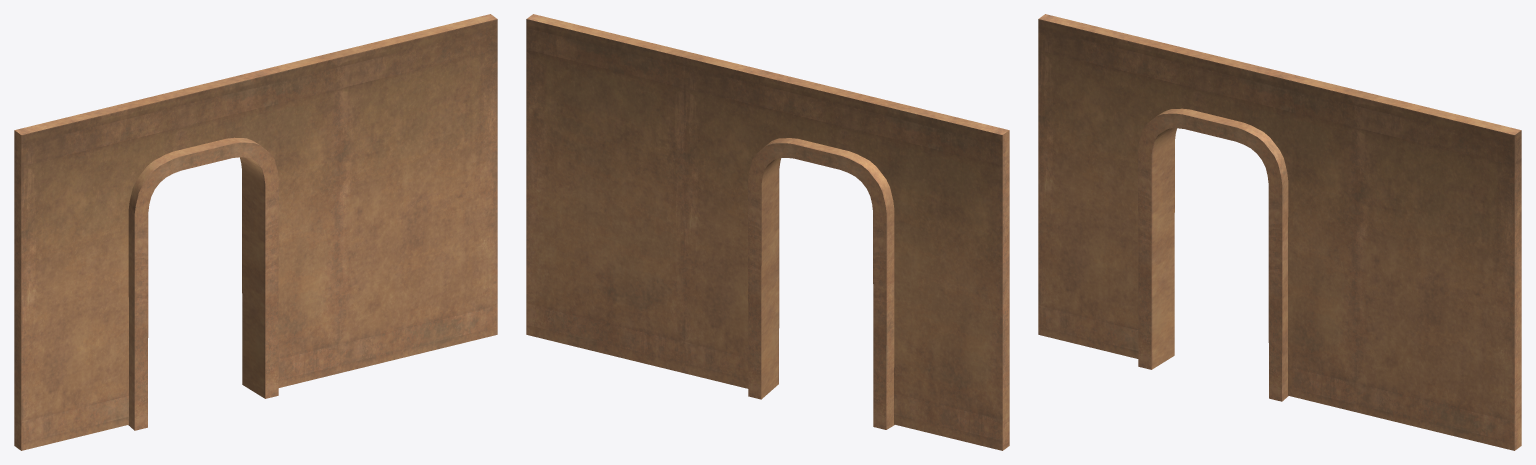
The model's file is Wall_1_B.fbx.
The picture shows the model from 3 angles, left to right: view 1: azimuth 30°, elevation 25°; view 2: azimuth 150°, elevation 25°; view 3: azimuth 330°, elevation 25°; orthographic projection.
Parts seen in each view (by area): view 1: Wall_1_B; view 2: Wall_1_B; view 3: Wall_1_B.
Part boxes in pixels (box(x1,y1,x2,y2)): Wall_1_B: box(14, 14, 497, 450); Wall_1_B: box(526, 14, 1009, 450); Wall_1_B: box(1038, 14, 1521, 450).
Bounding box in the file's own units: 4 × 2.54 × 0.2988.
